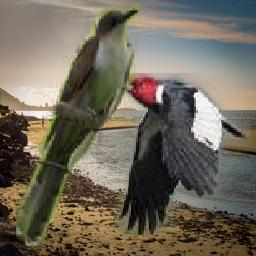Cuckoo: (17, 2, 142, 247)
Woodpecker: (115, 73, 252, 235)
